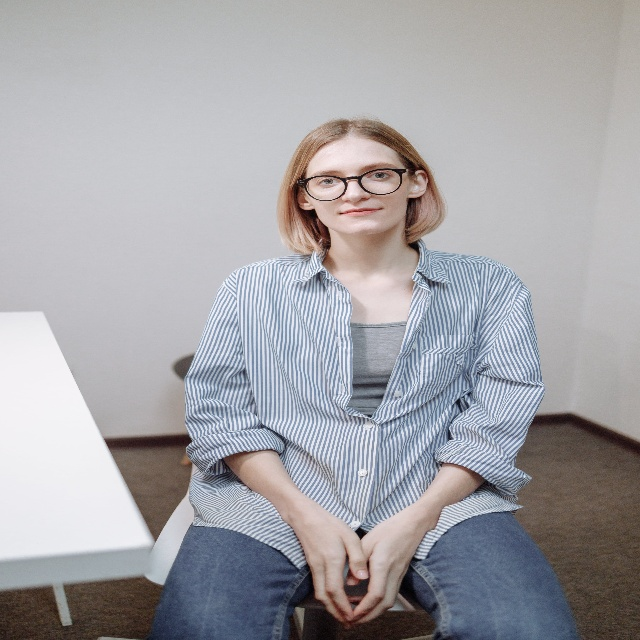Gafas: (295, 169, 415, 202)
Sin_guantes: (343, 504, 424, 631), (296, 500, 369, 629)
